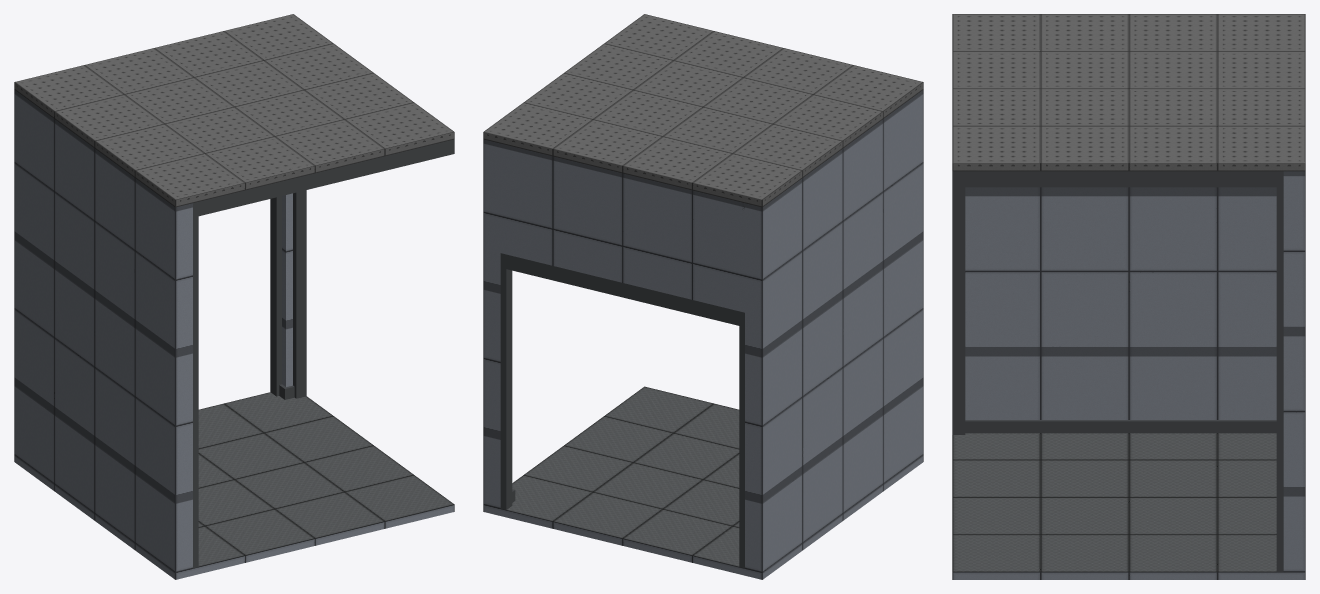
File: Room_SciFi_OpeningCornerL_NoLight.glb
3 views of the same model, side by side, from view 1: azimuth 30°, elevation 25°; view 2: azimuth 150°, elevation 25°; view 3: azimuth 270°, elevation 25° (orthographic). The views are drawn at different scales.
Visible parts, largest first — view 1: Room_SciFi_OpeningCornerL_NoLight, Room_SciFi_OpeningCornerL_NoLight_Ceiling; view 2: Room_SciFi_OpeningCornerL_NoLight, Room_SciFi_OpeningCornerL_NoLight_Ceiling; view 3: Room_SciFi_OpeningCornerL_NoLight, Room_SciFi_OpeningCornerL_NoLight_Ceiling.
Boxes of the visible parts, x1,y1,x2,y2 form: Room_SciFi_OpeningCornerL_NoLight: [14, 90, 454, 579]; Room_SciFi_OpeningCornerL_NoLight_Ceiling: [14, 14, 454, 216]; Room_SciFi_OpeningCornerL_NoLight: [483, 90, 923, 579]; Room_SciFi_OpeningCornerL_NoLight_Ceiling: [483, 14, 923, 326]; Room_SciFi_OpeningCornerL_NoLight: [952, 171, 1305, 579]; Room_SciFi_OpeningCornerL_NoLight_Ceiling: [952, 14, 1305, 187].
Bounding box in the file's own units: 4 × 5.2 × 4.
5 materials, 3 textured.
